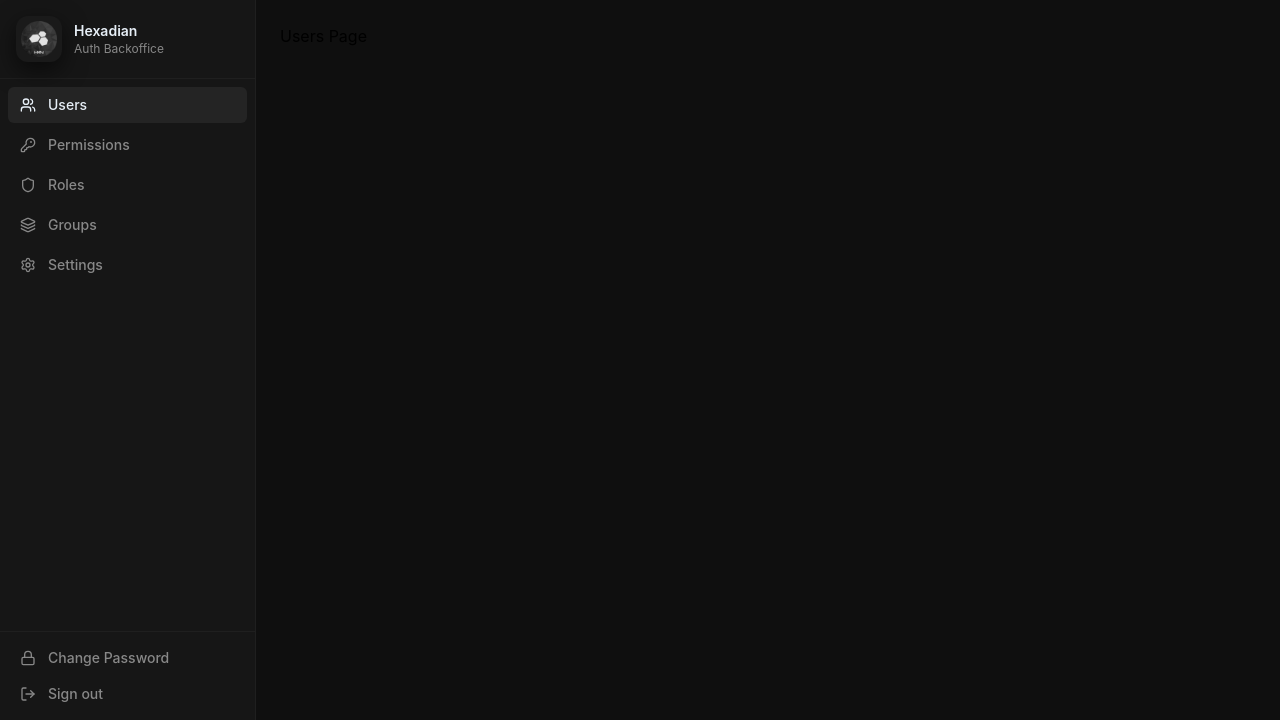
Test: ChangePasswordDialog › shows validation error when all fields are empty
Click the button "Change Password" at (128, 658), box [8,640,247,676]
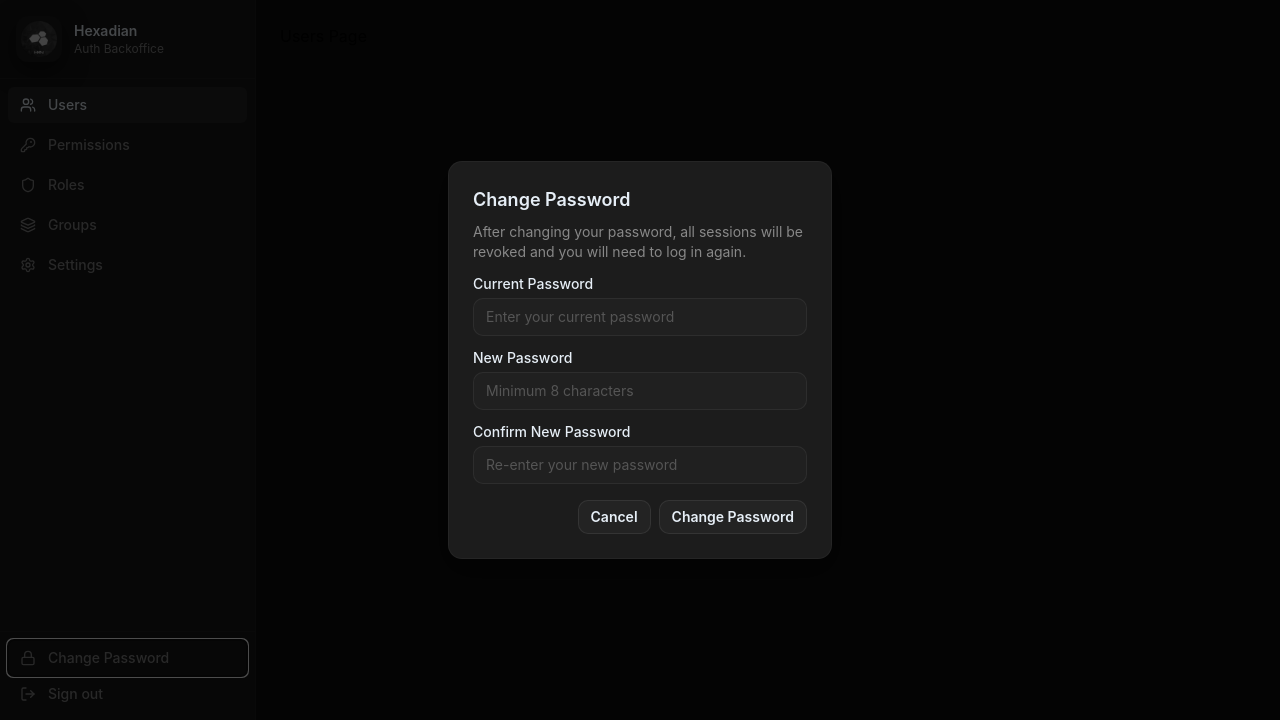
Submit empty form
Click the button "Change Password" at (733, 517), box [659,500,807,534]
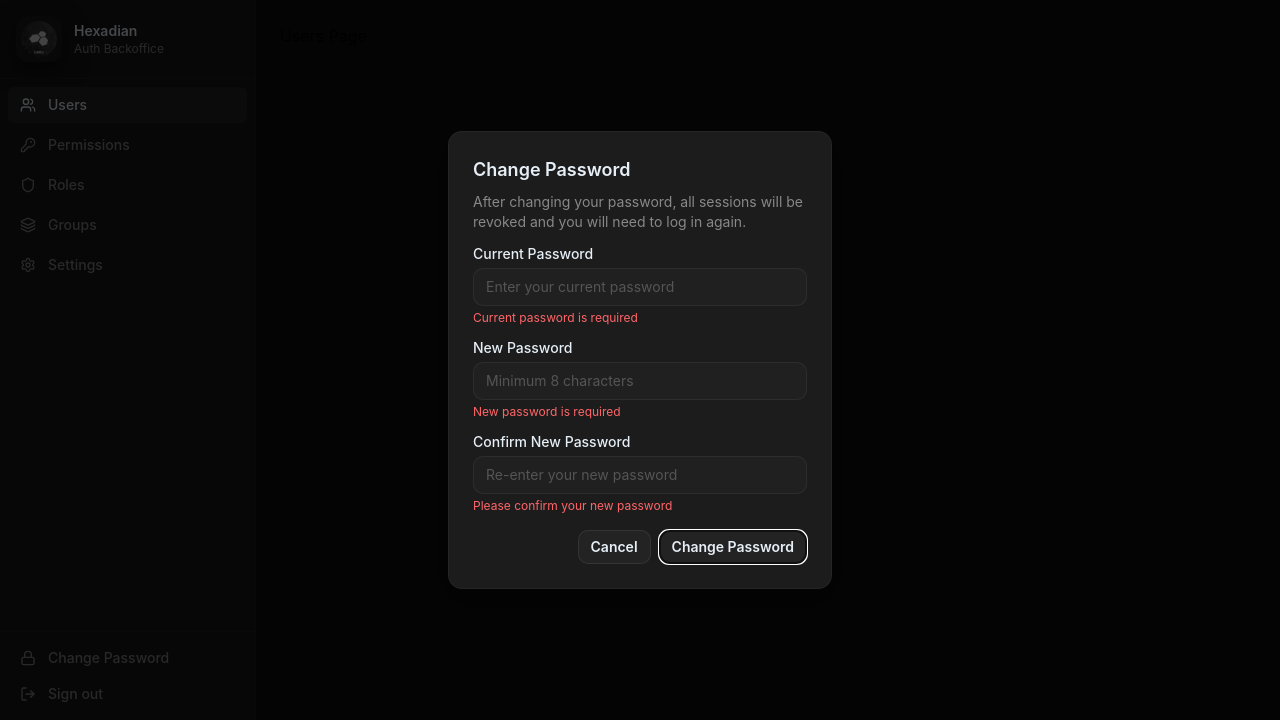
expect the text "Current password is required" is shown: met, box [473,310,638,325]
expect the text "New password is required" is shown: met, box [473,404,621,419]
expect the text "Please confirm your new password" is shown: met, box [473,498,672,513]
